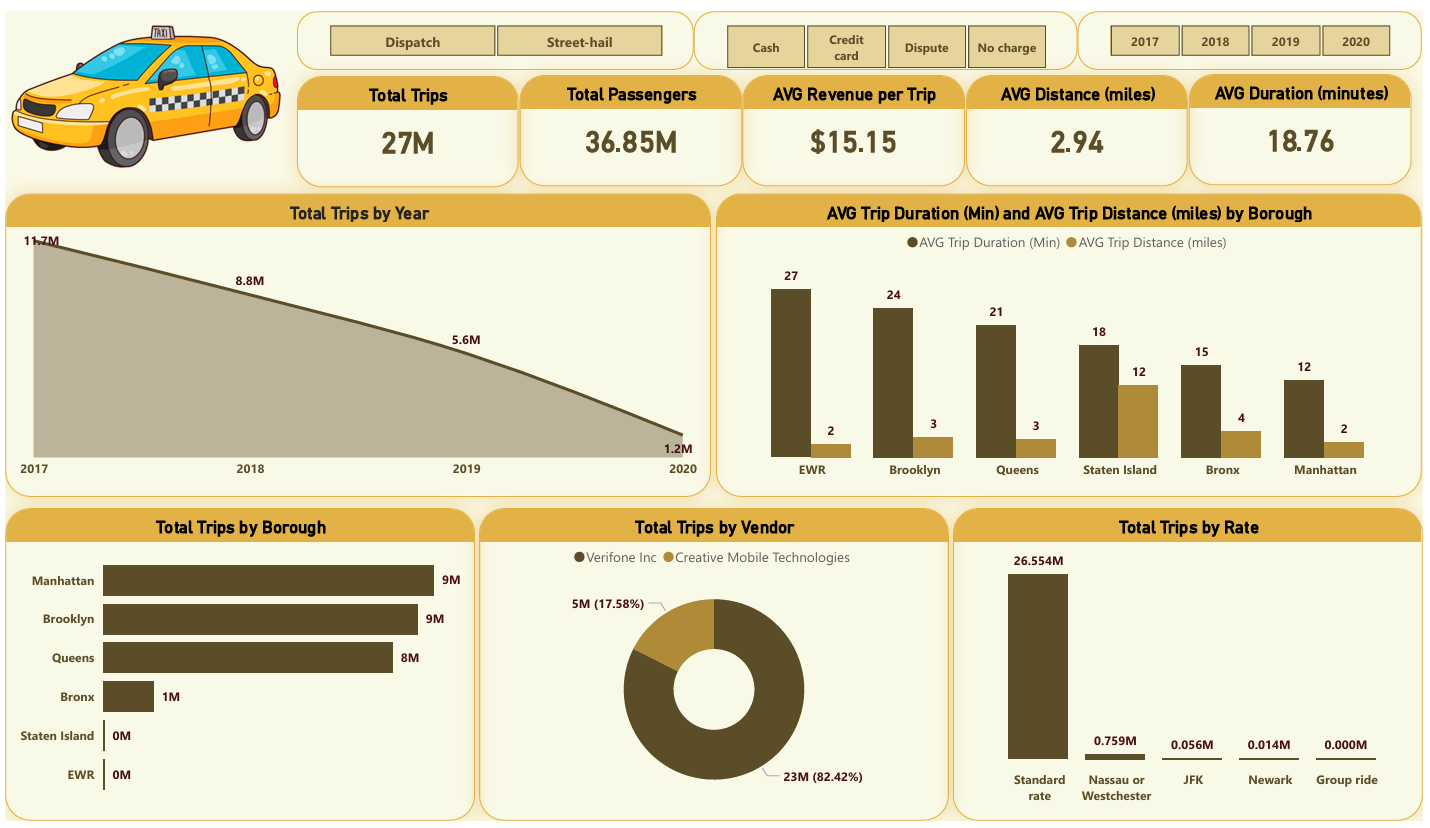

The page's visual inventory and layout, read from the dashboard file:
{"tool":"powerbi","page":{"name":"Operational KPIs","canvas":[1400,800],"ordinal":1},"visuals":[{"type":"image","box":[0,0,278.8,170.2],"z":0},{"type":"card","title":"Total Trips","fields":{"Values":["_Measures.Total Trips"]},"box":[288.3,63.5,219,110],"z":1000},{"type":"card","title":"AVG Distance (miles)","fields":{"Values":["_Measures.AVG Trip Distance (miles)"]},"box":[948.5,63,219.8,109.9],"z":2000},{"type":"card","title":"AVG Duration (minutes)","fields":{"Values":["_Measures.Trip Duration (Min)"]},"box":[1168.9,61.7,219.8,110],"z":3000},{"type":"card","title":"Total Passengers","fields":{"Values":["_Measures.Total Passenger Count"]},"box":[507.8,63,219.8,109.9],"z":4000},{"type":"lineChart","fields":{"Category":["Dim_Date.Date.Variation.Date Hierarchy.Year","Dim_Date.MonthName","Dim_Date.DayName","Fact_Trips.Pickup_time"],"Y":["_Measures.Total Trips"]},"box":[0,179.6,697.1,300.3],"z":5000},{"type":"clusteredColumnChart","fields":{"Y":["_Measures.Trip Duration (Min)","_Measures.AVG Trip Distance (miles)"],"Category":["Dim_Zones.Borough","Dim_Zones.service_zone"]},"box":[702.4,179.6,697.1,300.3],"z":6000},{"type":"clusteredColumnChart","title":"Total Trips by Rate","fields":{"Y":["_Measures.Total Trips"],"Category":["Fact_Trips.Ratecode"]},"box":[935.7,490.6,464,309.7],"z":7000},{"type":"barChart","fields":{"Category":["Dim_Zones.Borough","Dim_Zones.service_zone"],"Y":["_Measures.Total Trips"]},"box":[0,490.6,464,309.7],"z":8000},{"type":"card","title":"AVG Revenue per Trip","fields":{"Values":["_Measures.Avg Revenue per Trip"]},"box":[728.2,63,219.8,110],"z":9000},{"type":"slicer","fields":{"Values":["Fact_Trips.trip_type"]},"box":[288.2,0,391.4,57.6],"z":10000},{"type":"slicer","fields":{"Values":["Fact_Trips.payment_type"]},"box":[679.6,0,379.4,57.6],"z":11000},{"type":"slicer","fields":{"Values":["Dim_Date.Date.Variation.Date Hierarchy.Year"]},"box":[1059,0,340.5,57.6],"z":12000},{"type":"donutChart","fields":{"Y":["_Measures.Total Trips"],"Category":["Fact_Trips.Vendor"]},"box":[467.8,490.6,464,309.7],"z":13000}]}

Visuals, with their boxes in screenshot pixels (x1, y1, x2, y2), scaled from the page's 1400x800 canvas onto the 1430x828 screenshot:
image: left=0, top=0, right=285, bottom=176
"Total Trips" card: left=294, top=66, right=518, bottom=180
"AVG Distance (miles)" card: left=969, top=65, right=1193, bottom=179
"AVG Duration (minutes)" card: left=1194, top=64, right=1418, bottom=178
"Total Passengers" card: left=519, top=65, right=743, bottom=179
lineChart - Dim_Date.Date.Variation.Date Hierarchy.Year x Dim_Date.MonthName: left=0, top=186, right=712, bottom=497
clusteredColumnChart - _Measures.Trip Duration (Min) x _Measures.AVG Trip Distance (miles): left=717, top=186, right=1429, bottom=497
"Total Trips by Rate" clusteredColumnChart: left=956, top=508, right=1429, bottom=827
barChart - Dim_Zones.Borough x Dim_Zones.service_zone: left=0, top=508, right=474, bottom=827
"AVG Revenue per Trip" card: left=744, top=65, right=968, bottom=179
slicer - Fact_Trips.trip_type: left=294, top=0, right=694, bottom=60
slicer - Fact_Trips.payment_type: left=694, top=0, right=1082, bottom=60
slicer - Dim_Date.Date.Variation.Date Hierarchy.Year: left=1082, top=0, right=1429, bottom=60
donutChart - _Measures.Total Trips x Fact_Trips.Vendor: left=478, top=508, right=952, bottom=827
